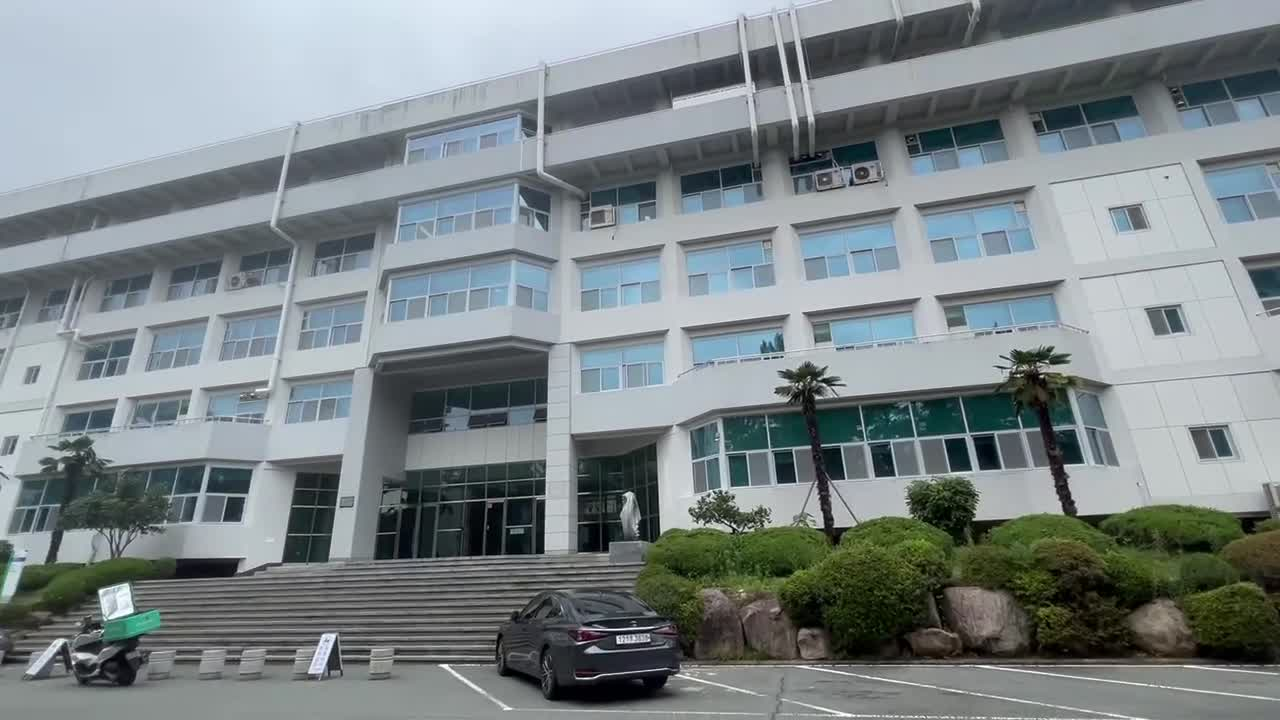medium: (28, 28, 1253, 521)
